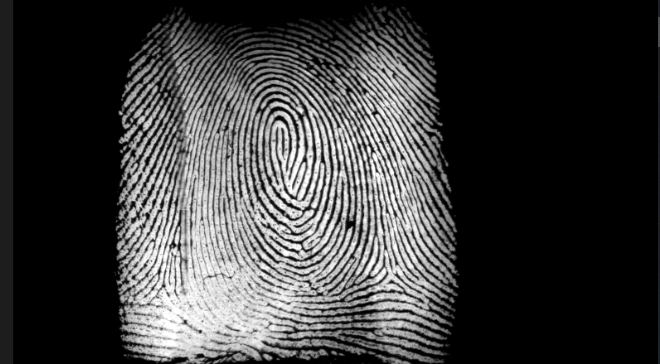nucelo: (259, 112, 301, 155)
verticilo: (372, 260, 404, 292), (145, 280, 174, 311)
